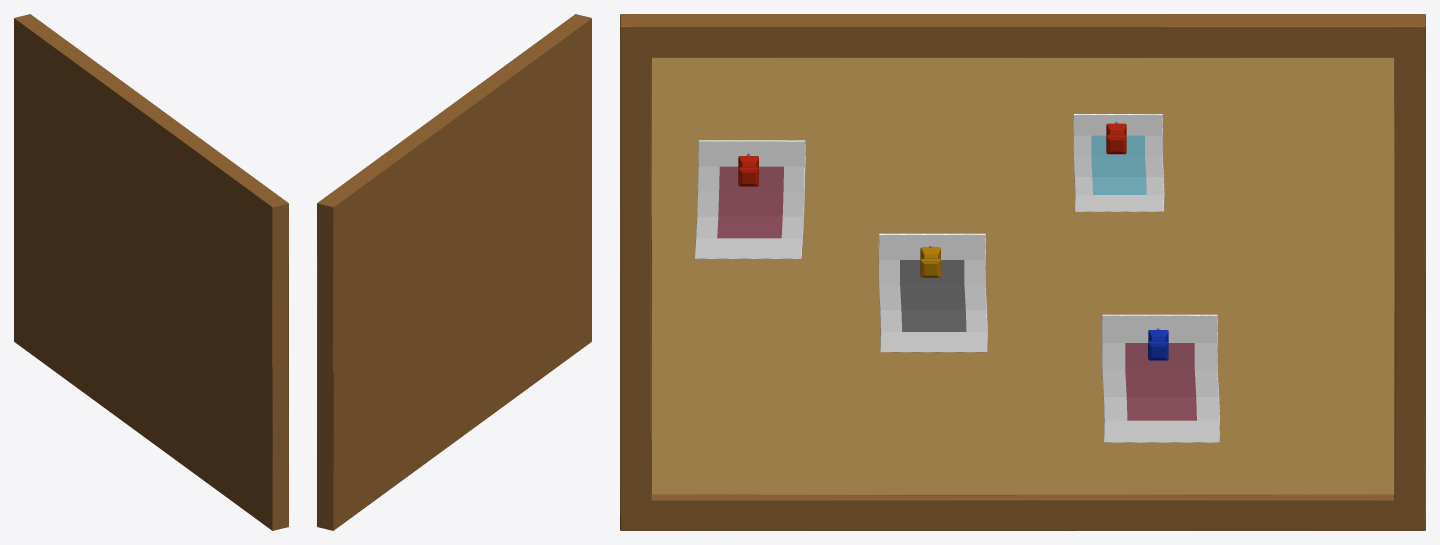
File: boardDinding.obj
The picture shows the model from 3 angles, left to right: view 1: azimuth 30°, elevation 25°; view 2: azimuth 150°, elevation 25°; view 3: azimuth 270°, elevation 25°; orthographic projection. The views are drawn at different scales.
Visible parts, largest first — view 1: Board_Cube.050; view 2: Board_Cube.050; view 3: Board_Cube.050.
Part boxes in pixels (x1,y1,x2,y2): Board_Cube.050: (14, 14, 288, 530); Board_Cube.050: (317, 14, 591, 530); Board_Cube.050: (620, 14, 1425, 530).
Size of the model in its own units: 0.1667 by 1.11 by 1.61.
